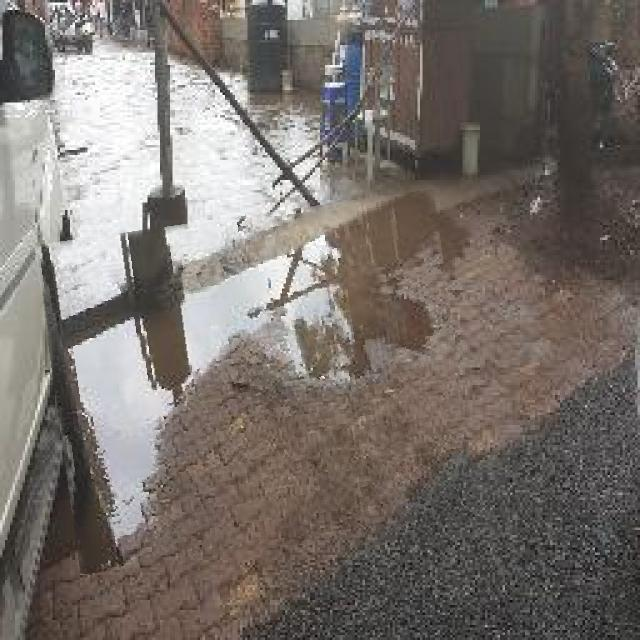puddle: (46, 203, 471, 562)
